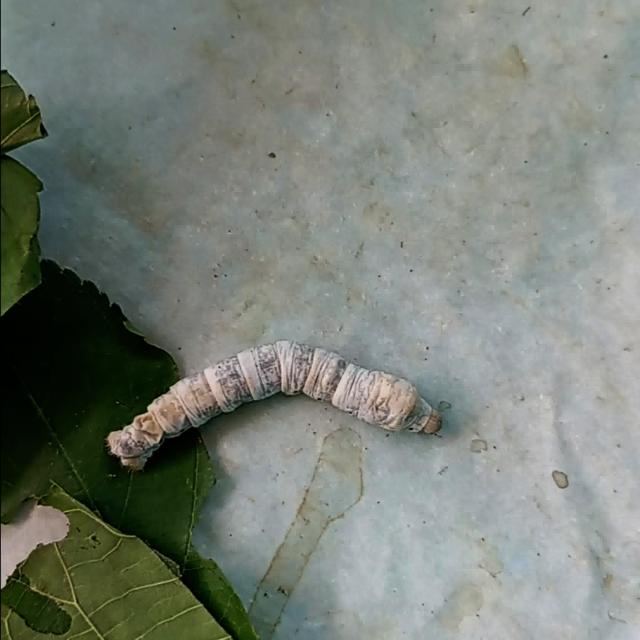Grasserie: (102, 323, 455, 490)
